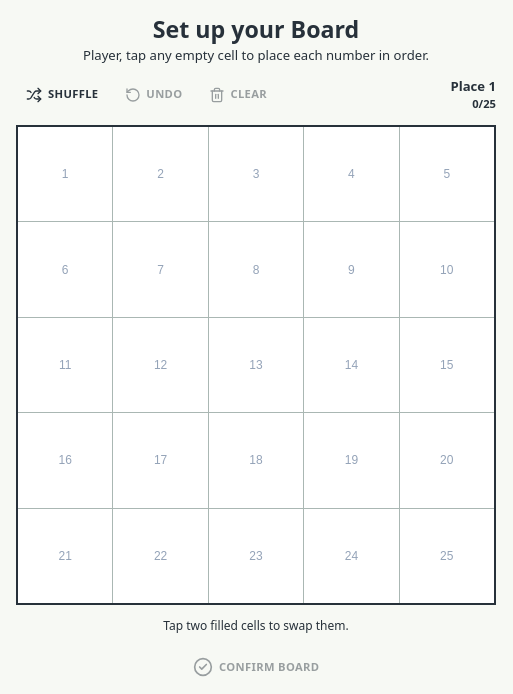
Test: BingoBoardSetup › swaps two occupied cells without losing either number
Click the button named "Empty cell, row 1, column 1. Place 1" at (65, 174), box [18, 127, 112, 221]
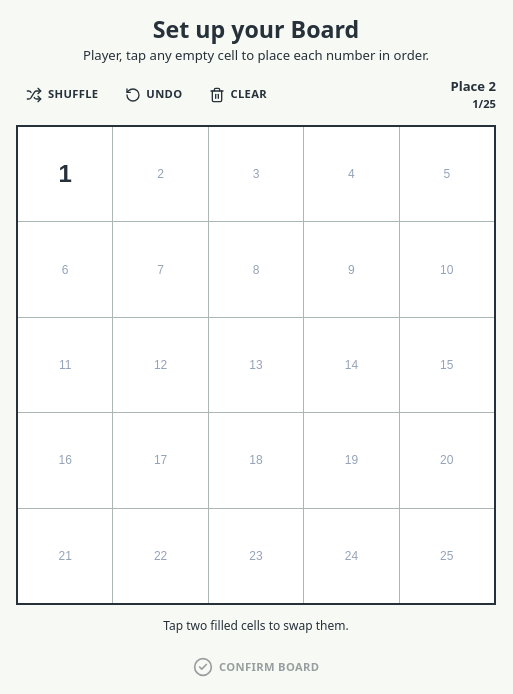
Click the button named "Empty cell, row 1, column 2. Place 2" at (161, 174), box [113, 127, 208, 221]
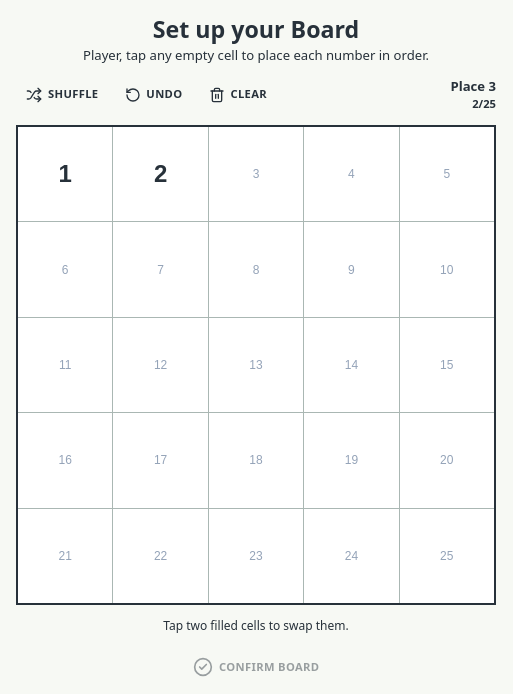
Click the button named "Number 1, row 1, column 1. Select to swap" at (65, 174), box [18, 127, 112, 221]
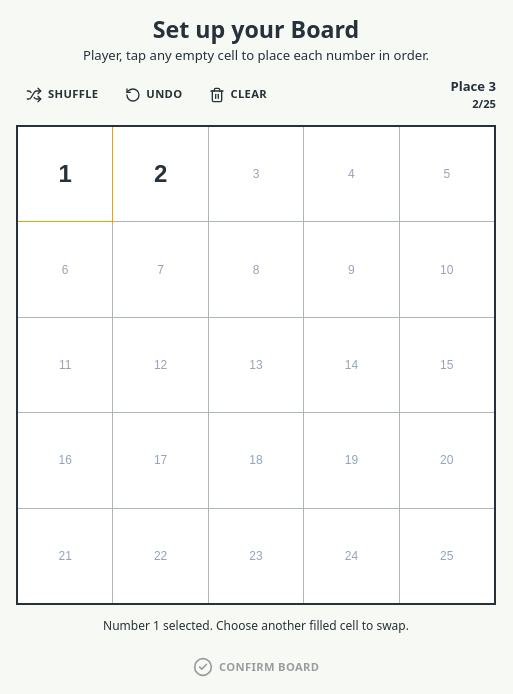
Click the button named "Number 2, row 1, column 2. Swap with number 1" at (161, 174), box [113, 127, 208, 221]
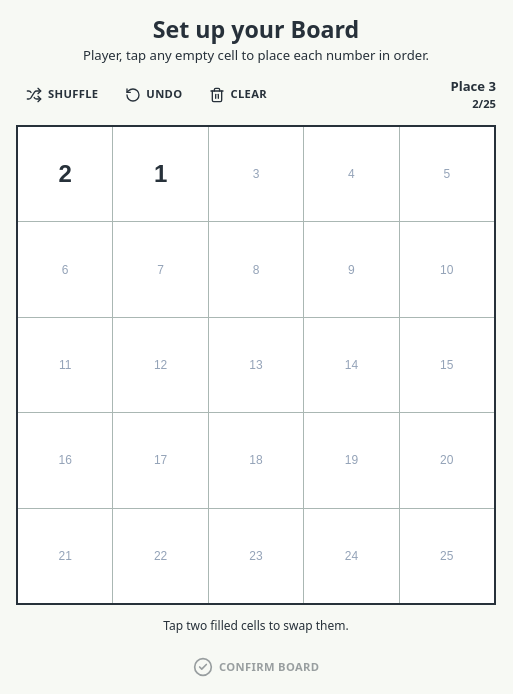
Expected: the text "Place 3" is shown, [450, 76, 496, 96]
Expected: the button named "Number 2, row 1, column 1. Select to swap" is shown, [18, 127, 112, 221]
Expected: the button named "Number 1, row 1, column 2. Select to swap" is shown, [113, 127, 208, 221]
